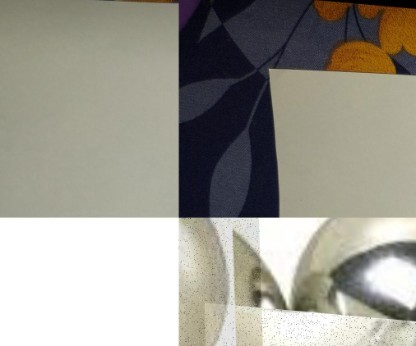ironball: (296, 214, 414, 319), (178, 218, 231, 346)
